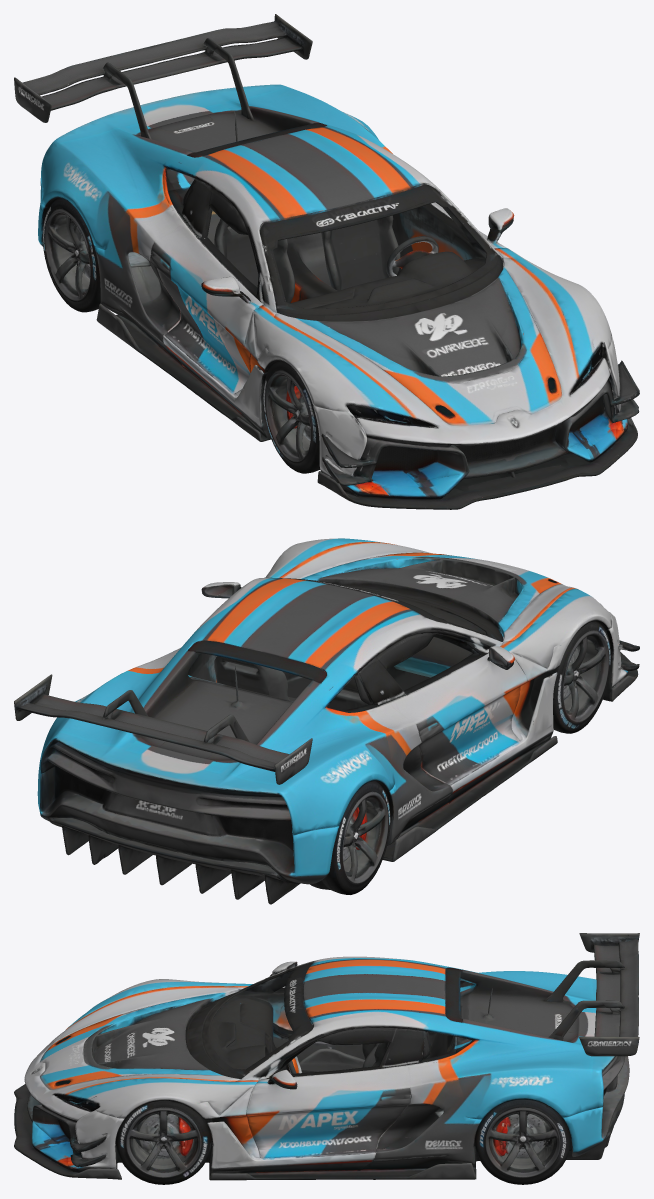
Rendered from gt_racer_driver.glb.
The picture shows the model from 3 angles, top to bottom: view 1: azimuth 30°, elevation 25°; view 2: azimuth 150°, elevation 25°; view 3: azimuth 270°, elevation 25°; orthographic projection. The views are drawn at different scales.
Parts seen in each view (by area): view 1: tripo_part_0, tripo_part_1, tripo_part_2, tripo_part_6, tripo_part_7, tripo_part_5, tripo_part_9, tripo_part_15, tripo_part_14, tripo_part_17, tripo_part_13, tripo_part_12; view 2: tripo_part_0, tripo_part_1, tripo_part_6, tripo_part_3, tripo_part_7, tripo_part_5, tripo_part_9, tripo_part_17, tripo_part_2, tripo_part_11, tripo_part_12; view 3: tripo_part_0, tripo_part_1, tripo_part_4, tripo_part_8, tripo_part_6, tripo_part_2, tripo_part_10, tripo_part_17, tripo_part_12, tripo_part_14, tripo_part_3, tripo_part_11.
Boxes of the visible parts, x1,y1,x2,y2 form: tripo_part_0: (38, 84, 627, 496); tripo_part_1: (168, 183, 502, 321); tripo_part_2: (317, 360, 639, 509); tripo_part_6: (14, 14, 312, 122); tripo_part_7: (42, 198, 100, 312); tripo_part_5: (263, 361, 320, 473); tripo_part_9: (177, 179, 248, 241); tripo_part_15: (346, 405, 434, 428); tripo_part_14: (203, 38, 255, 120); tripo_part_17: (189, 123, 326, 157); tripo_part_13: (201, 276, 251, 303); tripo_part_12: (103, 62, 151, 139); tripo_part_0: (37, 538, 628, 884); tripo_part_1: (188, 578, 501, 712); tripo_part_6: (14, 674, 312, 784); tripo_part_3: (49, 818, 300, 904); tripo_part_7: (310, 781, 390, 894); tripo_part_5: (553, 621, 611, 733); tripo_part_9: (354, 632, 434, 708); tripo_part_17: (189, 640, 326, 681); tripo_part_2: (609, 640, 639, 701); tripo_part_11: (201, 582, 241, 598); tripo_part_12: (203, 714, 249, 741); tripo_part_0: (24, 956, 629, 1180); tripo_part_1: (201, 961, 456, 1078); tripo_part_4: (474, 1099, 571, 1184); tripo_part_8: (115, 1100, 211, 1184); tripo_part_6: (579, 933, 639, 1056); tripo_part_2: (14, 1084, 121, 1179); tripo_part_10: (316, 1027, 431, 1068); tripo_part_17: (444, 967, 461, 1022); tripo_part_12: (543, 960, 624, 1002); tripo_part_14: (548, 1000, 624, 1040); tripo_part_3: (566, 1093, 624, 1159); tripo_part_11: (267, 1069, 297, 1089).
Size of what is drawn, in the model's own units: 0.4546 by 0.2555 by 0.9814.
Materials: 43 (43 with a texture image).
